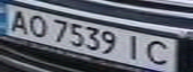3: (81, 25, 103, 53)
5: (66, 21, 87, 48)
7: (48, 17, 72, 44)
9: (100, 28, 121, 56)
A: (3, 7, 33, 34)
C: (142, 38, 178, 68)
I: (121, 33, 148, 61)
O: (21, 12, 51, 38)
